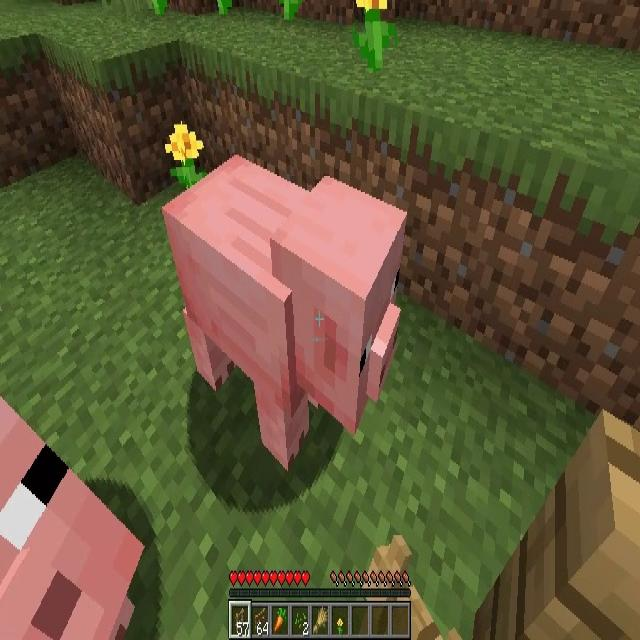flower: (166, 122, 205, 194), (354, 0, 395, 68)
pig: (161, 157, 415, 475), (0, 397, 144, 640)
